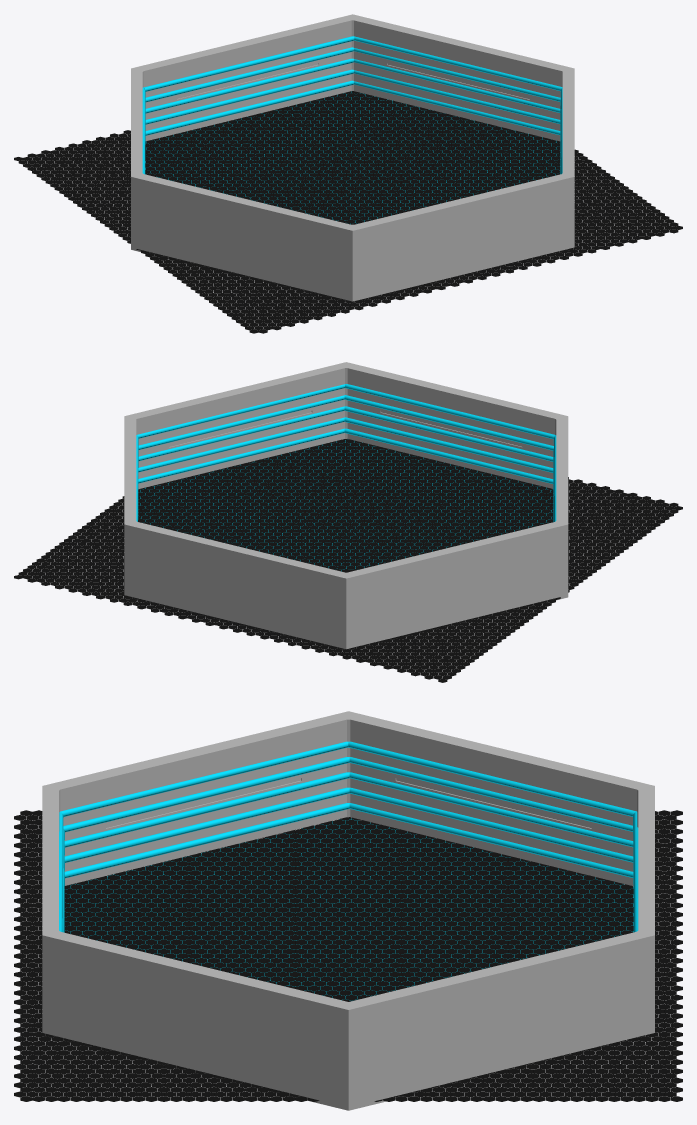
File: envTest.FBX
3 renders of one model, top to bottom at view 1: azimuth 30°, elevation 25°; view 2: azimuth 150°, elevation 25°; view 3: azimuth 270°, elevation 25°, orthographic. The views are drawn at different scales.
Parts seen in each view (by area): view 1: Cylinder001, Object978, Floor, Cylinder014, Cylinder015, Cylinder009, Cylinder003, Cylinder012, Cylinder006, Cylinder011, Cylinder005, Cylinder008 (+1 smaller); view 2: Cylinder001, Object978, Floor, Cylinder014, Cylinder009, Cylinder012, Cylinder003, Cylinder006, Cylinder015, Cylinder002, Cylinder005, Cylinder008 (+1 smaller); view 3: Cylinder001, Object978, Floor, Cylinder016, Cylinder007, Cylinder010, Cylinder004, Cylinder013, Cylinder015.
Boxes of the visible parts, x1,y1,x2,y2 form: Cylinder001: (131,14,574,302); Object978: (14,91,682,333); Floor: (145,91,559,224); Cylinder014: (354,36,562,173); Cylinder015: (144,36,354,91); Cylinder009: (145,58,353,113); Cylinder003: (145,80,353,135); Cylinder012: (145,47,353,102); Cylinder006: (145,69,353,124); Cylinder011: (354,48,561,173); Cylinder005: (354,70,560,163); Cylinder008: (354,59,560,152); Cylinder001: (124,362,568,650); Object978: (14,439,682,682); Floor: (140,440,552,571); Cylinder014: (136,384,344,521); Cylinder009: (344,406,553,461); Cylinder012: (344,395,553,450); Cylinder003: (344,428,553,483); Cylinder006: (344,417,553,472); Cylinder015: (345,384,554,439); Cylinder002: (138,428,344,483); Cylinder005: (138,417,344,472); Cylinder008: (138,406,344,460); Cylinder001: (42,711,654,1110); Object978: (14,810,682,1101); Floor: (65,818,633,1000); Cylinder016: (60,741,636,816); Cylinder007: (64,787,633,862); Cylinder010: (64,772,633,847); Cylinder004: (64,803,633,878); Cylinder013: (63,757,637,832); Cylinder015: (59,812,637,932).
Bounding box in the file's own units: 199 × 31.35 × 189.
